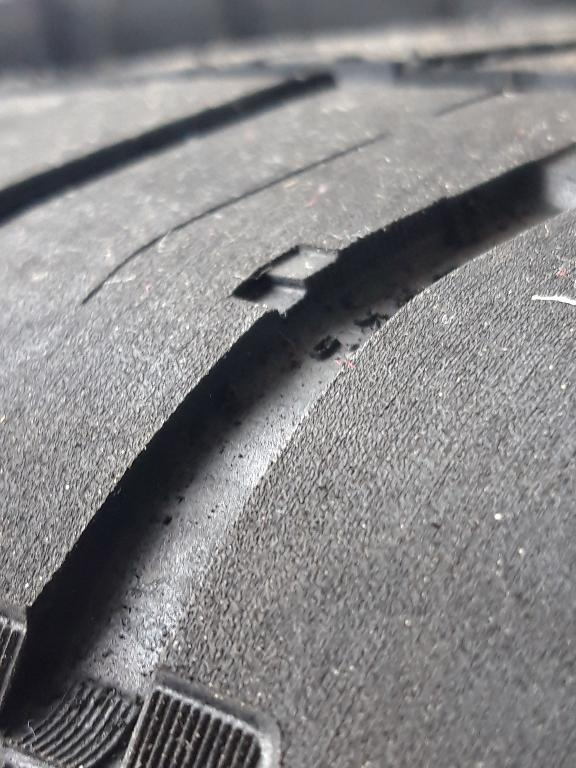temoin:25: (220, 233, 364, 348)
